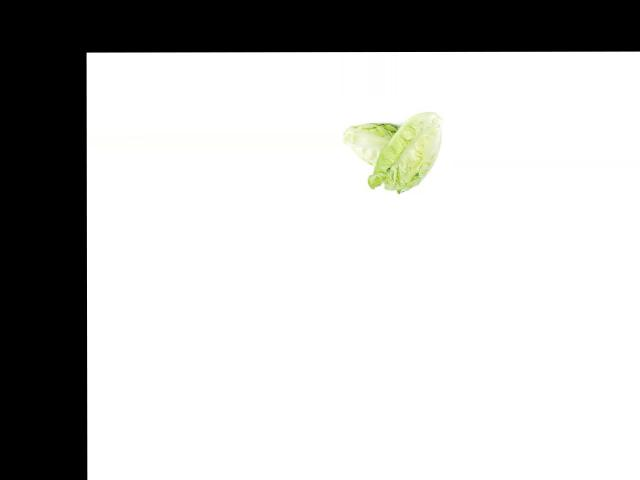lettuce: (341, 118, 399, 168)
